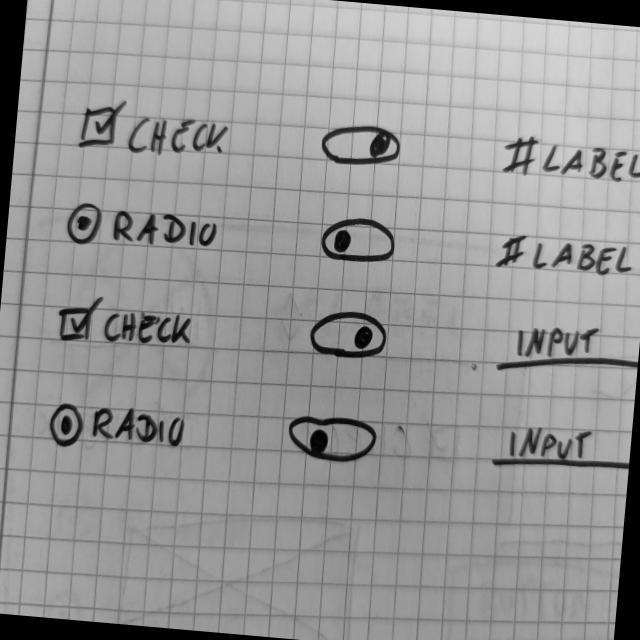checkbox: (76, 94, 232, 166), (56, 291, 197, 354)
input: (491, 315, 640, 385), (488, 414, 632, 480)
label: (499, 131, 640, 192), (493, 230, 640, 282)
radio: (64, 198, 224, 258), (45, 397, 190, 460)
toggle: (284, 412, 380, 466), (318, 115, 404, 173), (305, 304, 391, 362), (316, 212, 399, 267)
